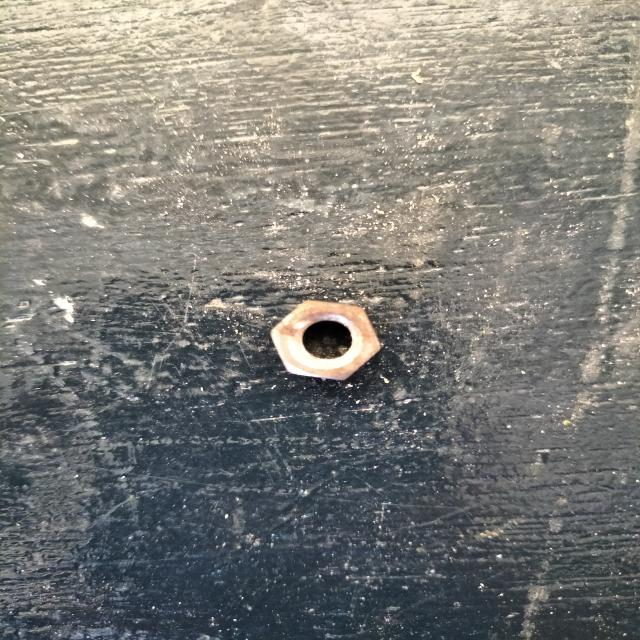nuts: (271, 301, 379, 381)
